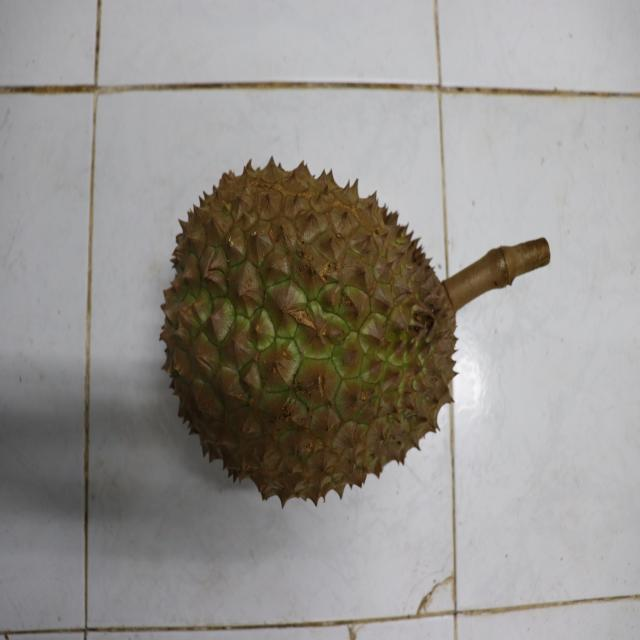mature: (157, 157, 462, 507)
